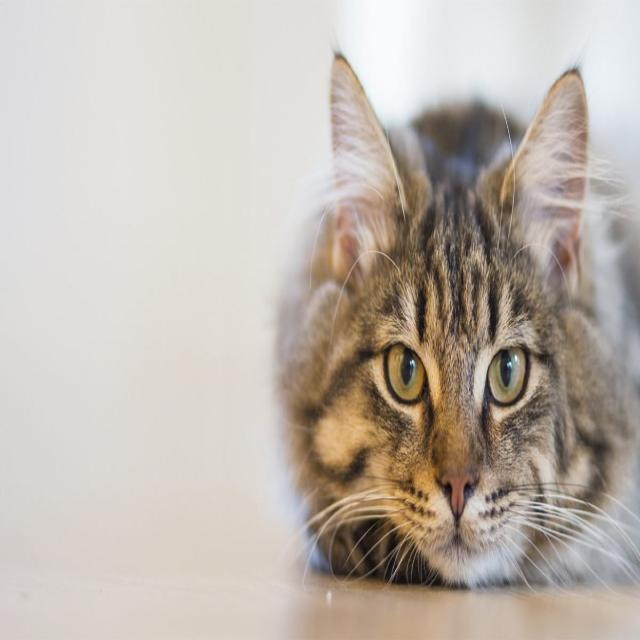cat: (327, 134, 541, 574)
